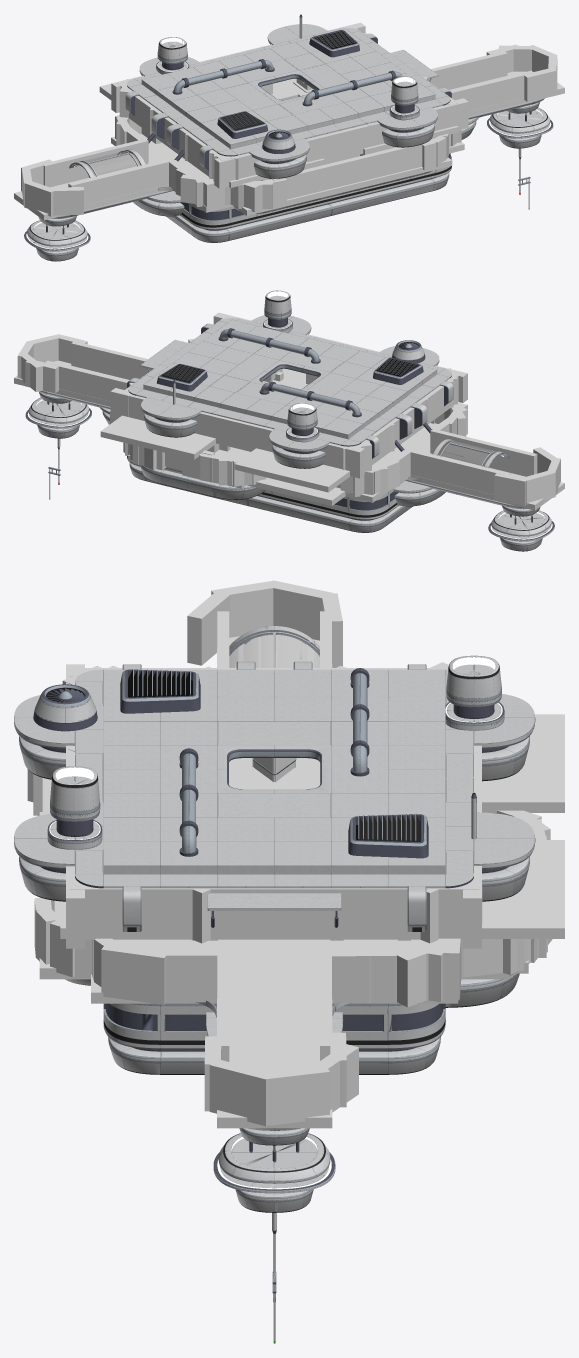
Rendered from Skybase.glb.
3 renders of one model, top to bottom at view 1: azimuth 30°, elevation 25°; view 2: azimuth 150°, elevation 25°; view 3: azimuth 270°, elevation 25°, orthographic. The views are drawn at different scales.
Parts seen in each view (by area): view 1: Building, Cube.018, Cube.007, Cube.001, Cube.002, Cube.021, Cube.022, Cube.019, Cube.005, Cube.199, Cube, Cube.200 (+17 smaller); view 2: Building, Cube.017, Cube.002, Cube.012, Cube.011, Cube.001, Cube.022, Cube.005, Cube.019, Cube.021, Cube.203, Cube (+19 smaller); view 3: Building, Cube.016, Cube.020, Cube.011, Cube.012, Cube.005, Cube.129, Cube.197, Cube.127, Cube.198, Cube.023, Cube.128 (+17 smaller).
Boxes of the visible parts, bbox=[...] form: Building: bbox=[24, 14, 553, 261]; Cube.018: bbox=[214, 98, 468, 188]; Cube.007: bbox=[271, 144, 422, 199]; Cube.001: bbox=[42, 138, 148, 187]; Cube.002: bbox=[68, 158, 174, 204]; Cube.021: bbox=[428, 51, 507, 89]; Cube.022: bbox=[450, 70, 533, 110]; Cube.019: bbox=[116, 81, 230, 178]; Cube.005: bbox=[157, 142, 452, 215]; Cube.199: bbox=[524, 68, 557, 101]; Cube: bbox=[14, 165, 168, 220]; Cube.200: bbox=[49, 187, 83, 215]; Building: bbox=[25, 290, 554, 551]; Cube.017: bbox=[110, 388, 364, 478]; Cube.002: bbox=[430, 428, 537, 476]; Cube.012: bbox=[100, 369, 302, 459]; Cube.011: bbox=[234, 448, 350, 492]; Cube.001: bbox=[404, 448, 510, 494]; Cube.022: bbox=[71, 341, 152, 379]; Cube.005: bbox=[127, 423, 436, 505]; Cube.019: bbox=[348, 370, 462, 464]; Cube.021: bbox=[45, 360, 128, 401]; Cube.203: bbox=[494, 473, 528, 505]; Cube: bbox=[410, 455, 564, 510]; Building: bbox=[14, 626, 535, 1343]; Cube.016: bbox=[69, 881, 479, 939]; Cube.020: bbox=[217, 992, 332, 1128]; Cube.011: bbox=[229, 714, 564, 812]; Cube.012: bbox=[60, 840, 564, 938]; Cube.005: bbox=[39, 812, 509, 979]; Cube.129: bbox=[101, 943, 168, 1004]; Cube.197: bbox=[263, 1065, 329, 1125]; Cube.127: bbox=[332, 949, 396, 1003]; Cube.198: bbox=[209, 1059, 273, 1126]; Cube.023: bbox=[91, 967, 458, 1003]; Cube.128: bbox=[155, 948, 217, 1002].
Size of the model in its own units: 124 by 46.68 by 57.98.
5 materials, 1 textured.
